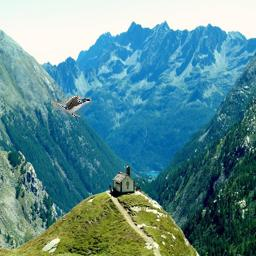Swallow: (51, 95, 92, 117)
